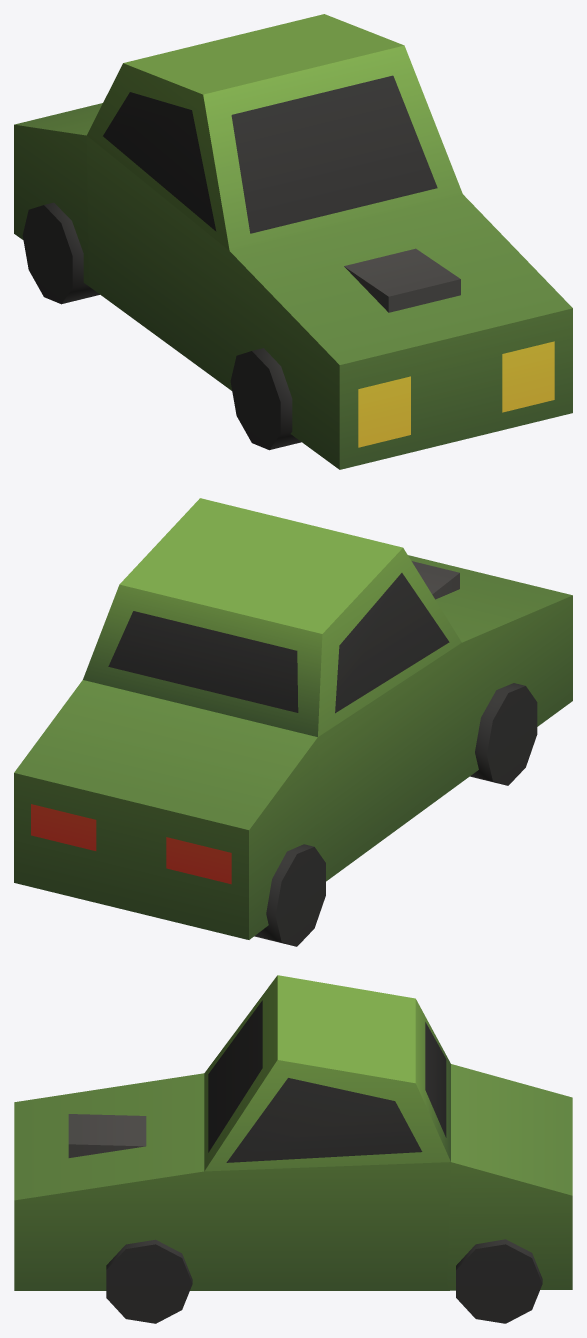
File: Car_7_6.fbx
3 views of the same model, one above another, from view 1: azimuth 30°, elevation 25°; view 2: azimuth 150°, elevation 25°; view 3: azimuth 270°, elevation 25° (orthographic). The views are drawn at different scales.
Parts seen in each view (by area): view 1: Car_7_6; view 2: Car_7_6; view 3: Car_7_6.
Boxes of the visible parts, box(x1,y1,x2,y2) form: Car_7_6: box(14, 14, 572, 469); Car_7_6: box(14, 498, 572, 946); Car_7_6: box(14, 975, 572, 1323).
Size of the model in its own units: 212 by 231 by 464.
